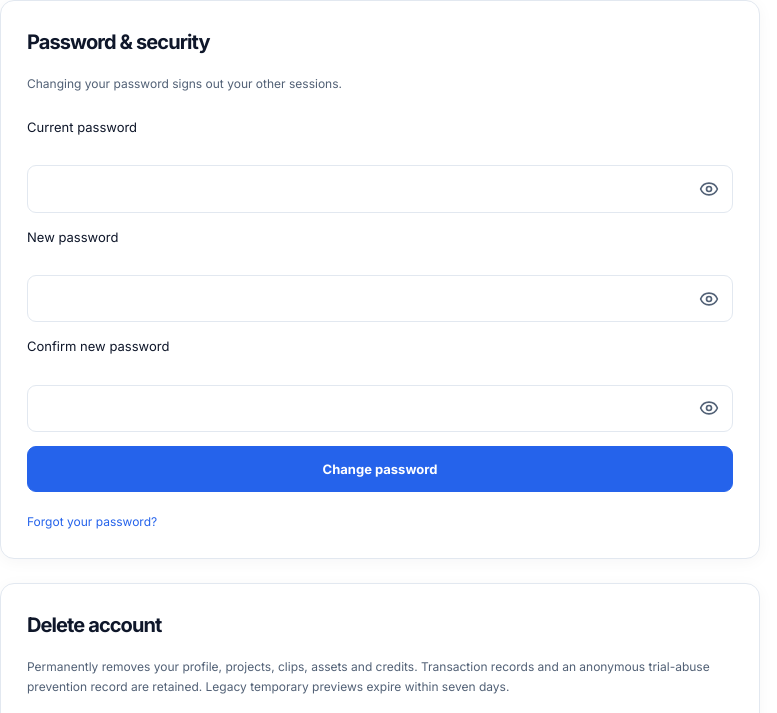
Test case: checks password confirmation before making a change
Type "current-pass" into the password field labelled "Current password" at (380, 189), box [27,165,733,213]
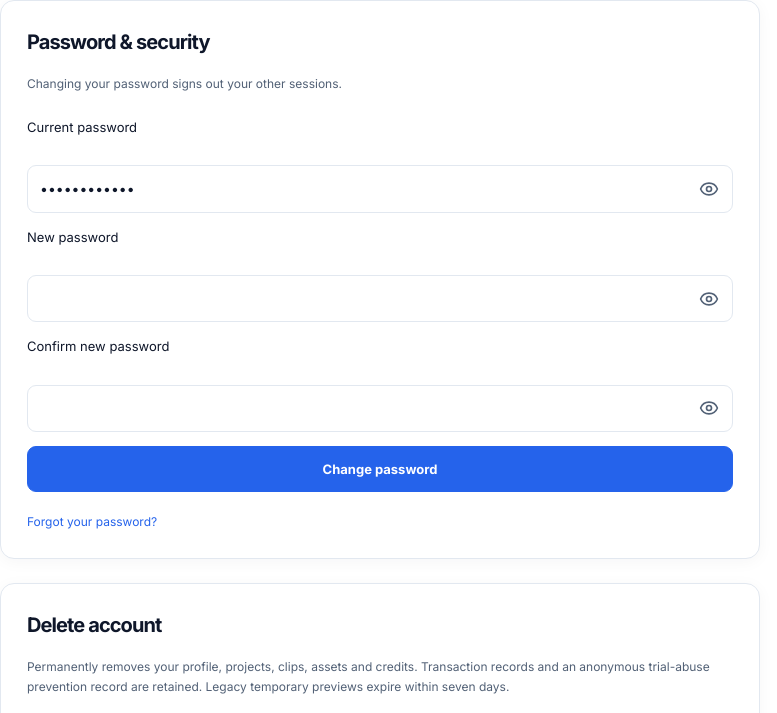
Type "new-password" into the password field labelled "New password" at (380, 299), box [27,275,733,322]
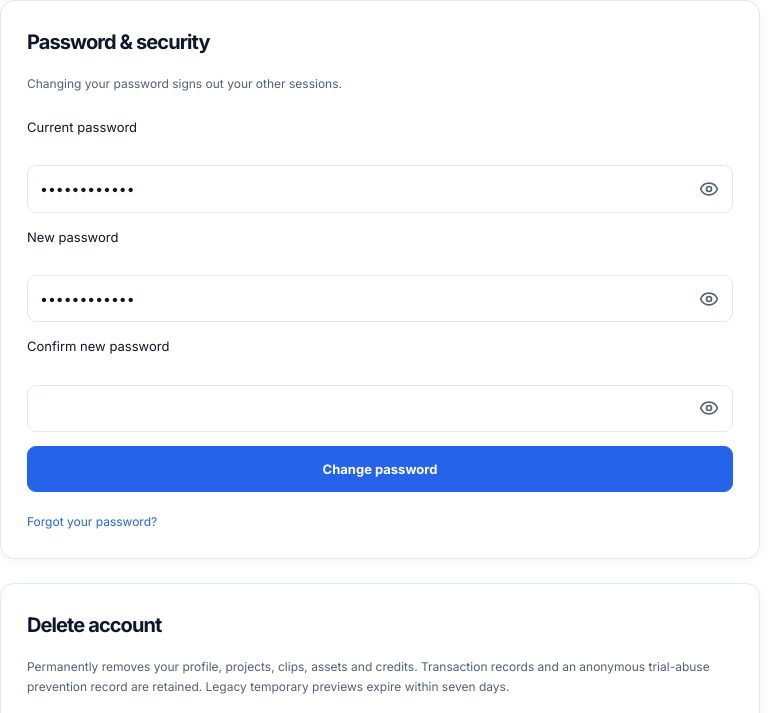
Type "different-password" into the password field labelled "Confirm new password" at (380, 408), box [27,385,733,432]
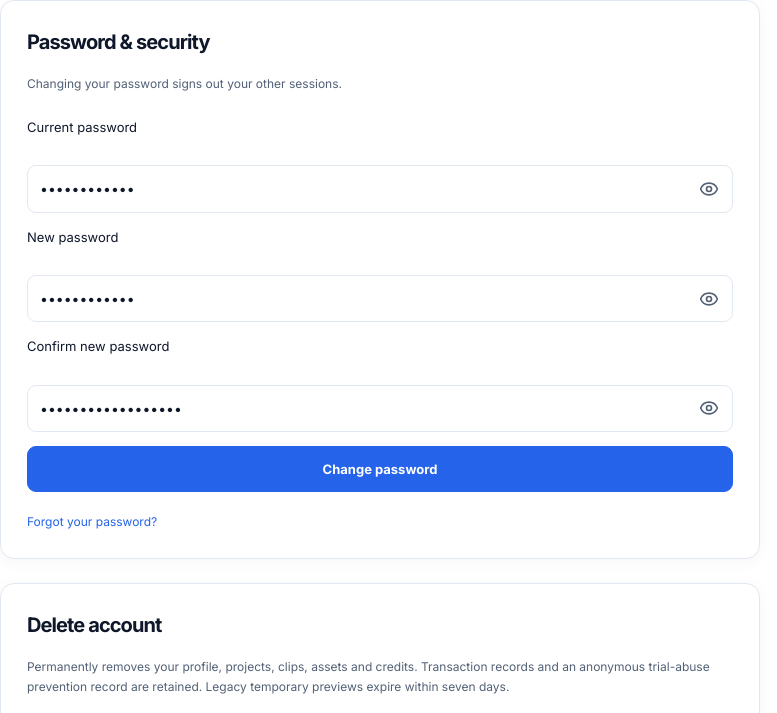
Submit the text "Change password", box [27,117,733,492]
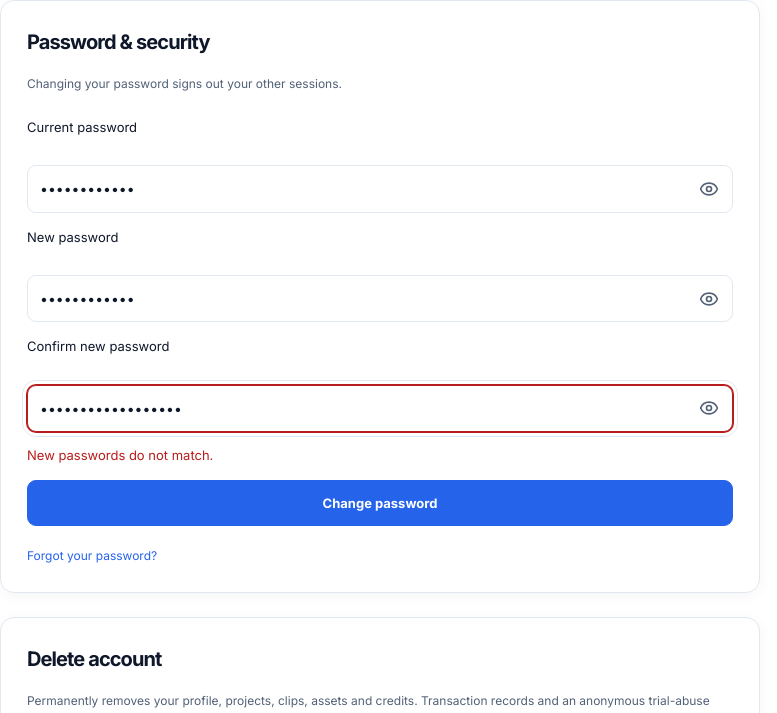
Check: the text "New passwords do not match." is shown, box [27,447,213,463]
